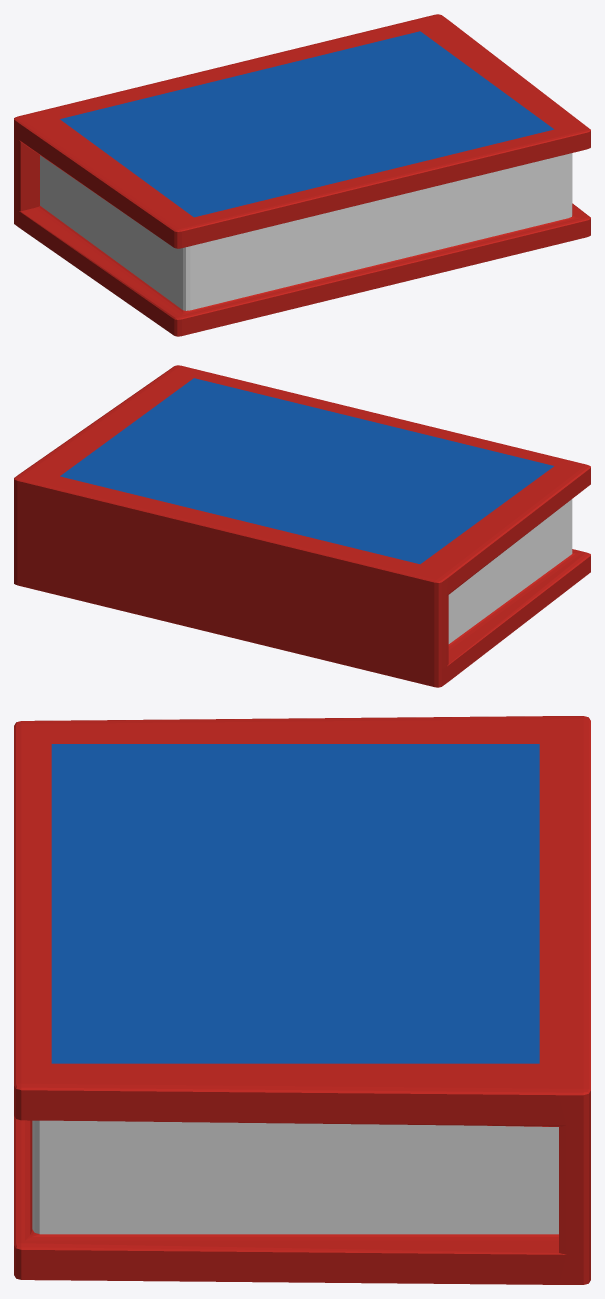
Rendered from Book.fbx.
3 views of the same model, one above another, from view 1: azimuth 30°, elevation 25°; view 2: azimuth 150°, elevation 25°; view 3: azimuth 270°, elevation 25° (orthographic). The views are drawn at different scales.
Parts seen in each view (by area): view 1: Cube; view 2: Cube; view 3: Cube.
Boxes of the visible parts, <box> form: Cube: <box>14,14,590,336</box>; Cube: <box>14,365,590,687</box>; Cube: <box>14,716,590,1284</box>.
Size of the model in its own units: 341 by 81.02 by 219.
